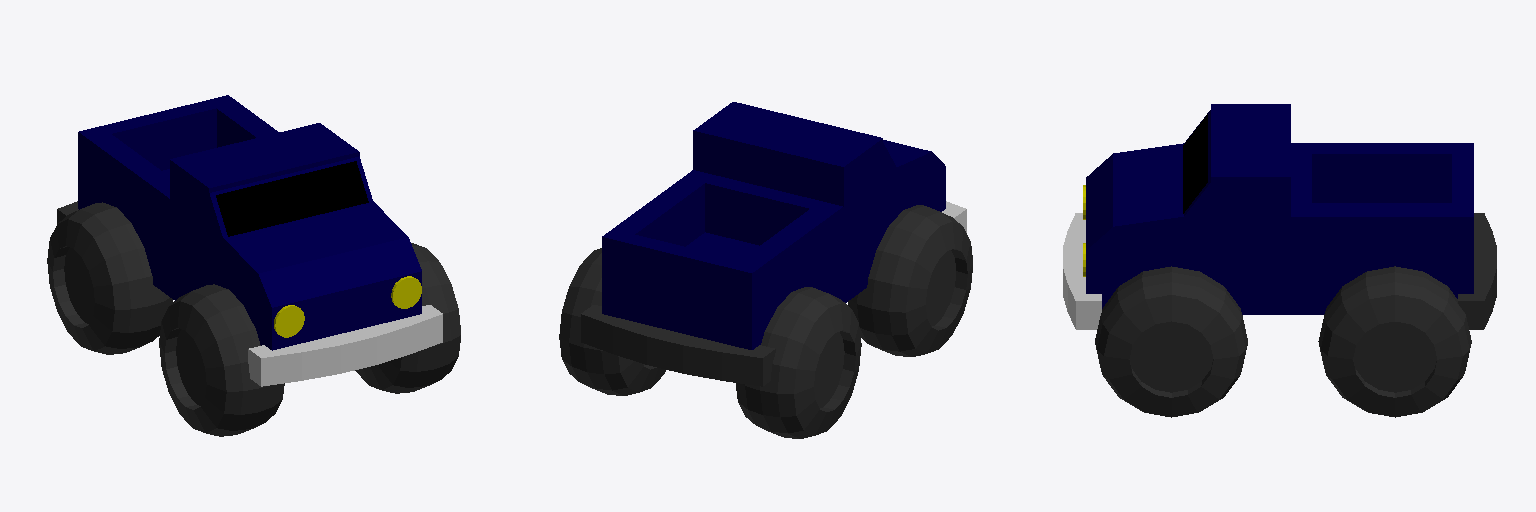
The model's file is car.obj.
The picture shows the model from 3 angles: view 1: azimuth 30°, elevation 25°; view 2: azimuth 150°, elevation 25°; view 3: azimuth 270°, elevation 25°; orthographic projection.
Visible parts, largest first — view 1: Cube_Cube.001, Cylinder.001_Cylinder.002, Cylinder.003_Cylinder.002, Cube.001_Cube.003, Plane.001, Cylinder.002, Cylinder.005, Cylinder.004; view 2: Cube_Cube.001, Cylinder.003_Cylinder.002, Cylinder.001_Cylinder.002, Cube.002_Cube.004, Cylinder.000_Cylinder.002; view 3: Cube_Cube.001, Cylinder.002, Cylinder.000_Cylinder.002, Cube.001_Cube.003, Cube.002_Cube.004, Plane.001.
Boxes of the visible parts, x1,y1,x2,y2 form: Cube_Cube.001: [78, 95, 421, 350]; Cylinder.001_Cylinder.002: [47, 202, 172, 354]; Cylinder.003_Cylinder.002: [159, 284, 284, 436]; Cube.001_Cube.003: [248, 305, 442, 386]; Plane.001: [216, 161, 368, 236]; Cylinder.002: [355, 243, 460, 393]; Cylinder.005: [391, 276, 421, 308]; Cylinder.004: [274, 305, 304, 337]; Cube_Cube.001: [602, 102, 945, 349]; Cylinder.003_Cylinder.002: [848, 205, 972, 356]; Cylinder.001_Cylinder.002: [736, 287, 861, 438]; Cube.002_Cube.004: [581, 305, 775, 386]; Cylinder.000_Cylinder.002: [559, 248, 665, 395]; Cube_Cube.001: [1086, 104, 1473, 314]; Cylinder.002: [1095, 266, 1247, 417]; Cylinder.000_Cylinder.002: [1318, 266, 1471, 417]; Cube.001_Cube.003: [1063, 213, 1101, 329]; Cube.002_Cube.004: [1458, 213, 1496, 329]; Plane.001: [1183, 114, 1207, 213].
Size of the model in its own units: 4.24 by 3.66 by 6.42.